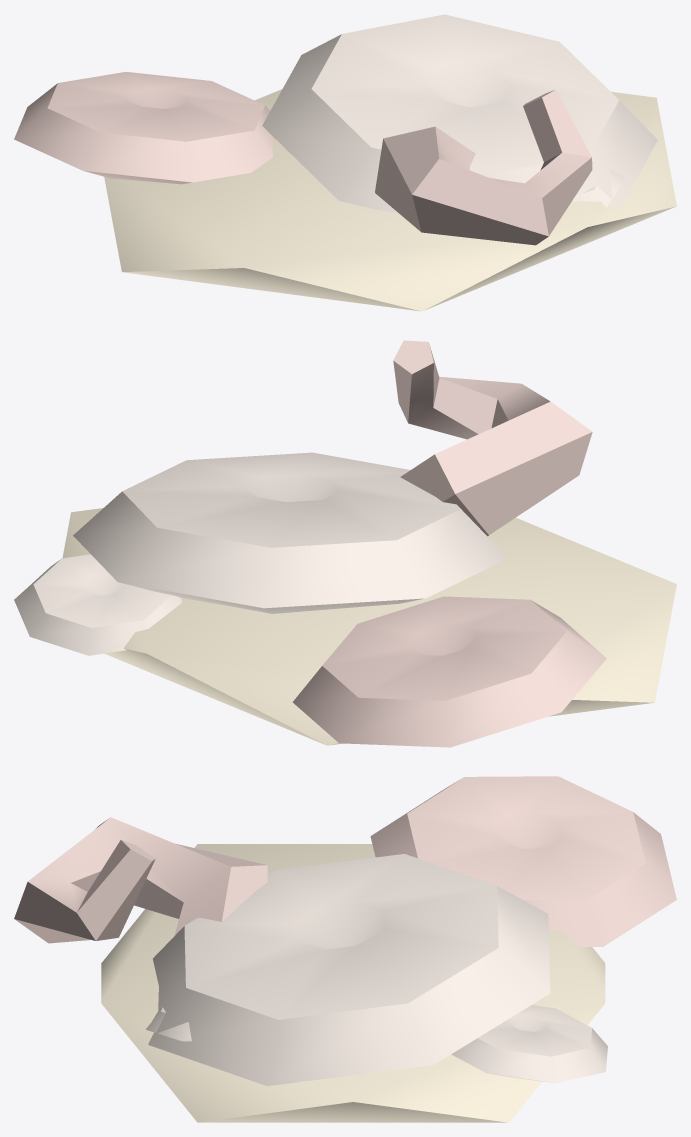
The model's file is saltglass_shells.glb.
3 views of the same model, one above another, from view 1: azimuth 30°, elevation 25°; view 2: azimuth 150°, elevation 25°; view 3: azimuth 270°, elevation 25° (orthographic). The views are drawn at different scales.
Visible parts, largest first — view 1: saltglass_shells; view 2: saltglass_shells; view 3: saltglass_shells.
Boxes of the visible parts, left/top/right/bottom form: saltglass_shells: left=14, top=14, right=676, bottom=311; saltglass_shells: left=14, top=340, right=676, bottom=747; saltglass_shells: left=14, top=776, right=676, bottom=1122.
Size of the model in its own units: 0.4091 by 0.1456 by 0.3938.
